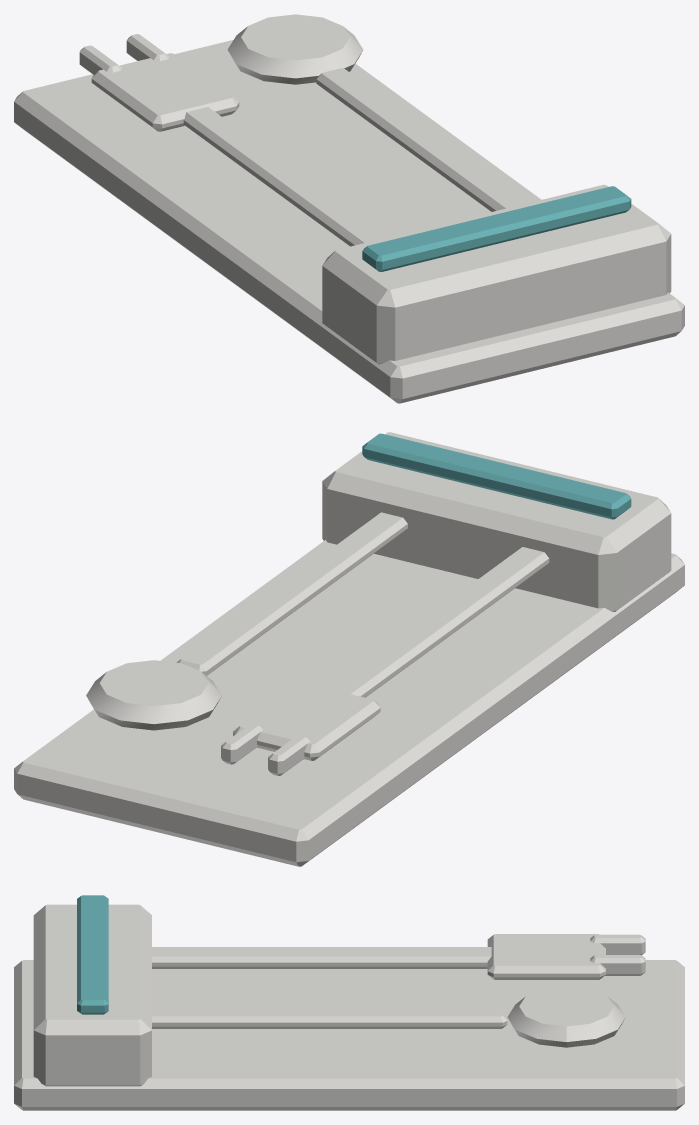
Rendered from fast-food-and-drive-thru-cutlery-and-napkin-pack-a0515789__16172.glb.
The picture shows the model from 3 angles, top to bottom: view 1: azimuth 30°, elevation 25°; view 2: azimuth 150°, elevation 25°; view 3: azimuth 270°, elevation 25°; orthographic projection. The views are drawn at different scales.
Visible parts, largest first — view 1: cutlery-and-napkin-pack; view 2: cutlery-and-napkin-pack; view 3: cutlery-and-napkin-pack.
Part boxes in pixels (bbox=[...]): cutlery-and-napkin-pack: bbox=[14, 14, 684, 403]; cutlery-and-napkin-pack: bbox=[14, 432, 684, 866]; cutlery-and-napkin-pack: bbox=[14, 895, 684, 1110].
Bounding box in the file's own units: 0.075 × 0.029 × 0.17.
